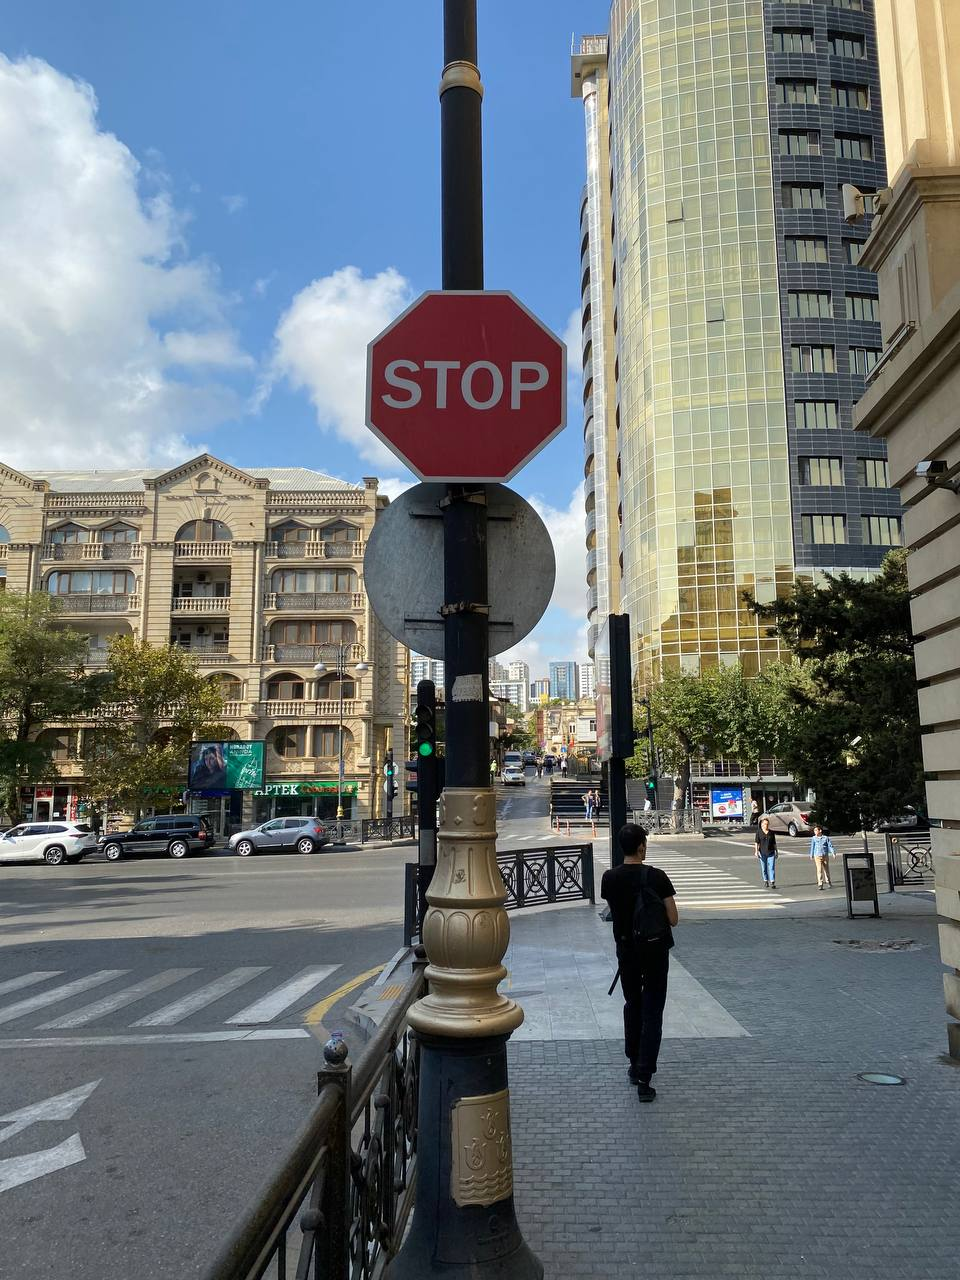STOP: (364, 290, 568, 482)
